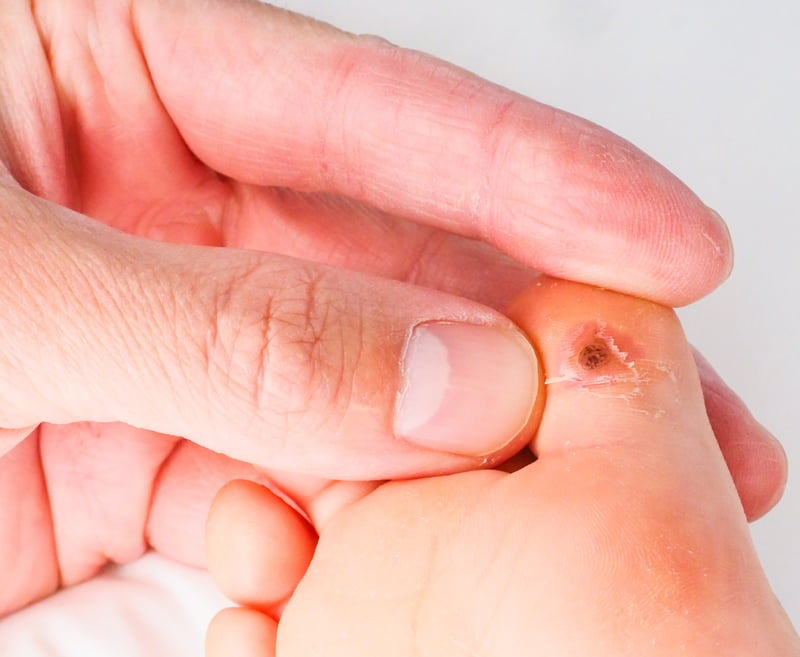Warts: (545, 295, 673, 431)
